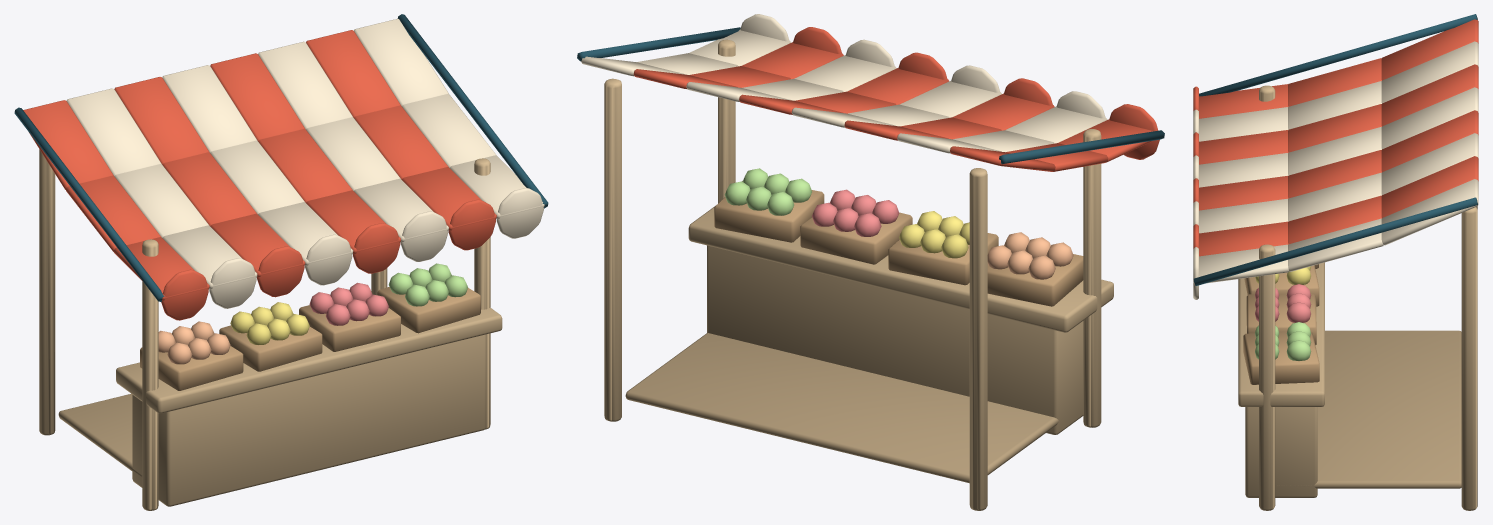
The model's file is market_stall_red.glb.
The picture shows the model from 3 angles, left to right: view 1: azimuth 30°, elevation 25°; view 2: azimuth 150°, elevation 25°; view 3: azimuth 270°, elevation 25°; orthographic projection. The views are drawn at different scales.
Parts seen in each view (by area): view 1: Market_Stall_Red_Frame, Market_Stall_Red_Awning_B, Market_Stall_Red_Awning_A, Market_Stall_Red_Crates, Market_Stall_Red_Fruit, Market_Stall_Red_AwningRod; view 2: Market_Stall_Red_Frame, Market_Stall_Red_Awning_A, Market_Stall_Red_Awning_B, Market_Stall_Red_Crates, Market_Stall_Red_Fruit, Market_Stall_Red_AwningRod; view 3: Market_Stall_Red_Frame, Market_Stall_Red_Awning_A, Market_Stall_Red_Awning_B, Market_Stall_Red_AwningRod, Market_Stall_Red_Crates, Market_Stall_Red_Fruit.
Boxes of the visible parts, x1,y1,x2,y2 form: Market_Stall_Red_Frame: [39, 149, 502, 510]; Market_Stall_Red_Awning_B: [66, 18, 544, 308]; Market_Stall_Red_Awning_A: [23, 30, 496, 320]; Market_Stall_Red_Crates: [140, 287, 480, 390]; Market_Stall_Red_Fruit: [158, 263, 467, 364]; Market_Stall_Red_AwningRod: [14, 14, 548, 301]; Market_Stall_Red_Frame: [604, 39, 1113, 510]; Market_Stall_Red_Awning_A: [633, 27, 1159, 171]; Market_Stall_Red_Awning_B: [581, 14, 1107, 153]; Market_Stall_Red_Crates: [714, 181, 1083, 306]; Market_Stall_Red_Fruit: [724, 168, 1073, 279]; Market_Stall_Red_AwningRod: [577, 27, 1164, 164]; Market_Stall_Red_Frame: [1238, 85, 1477, 510]; Market_Stall_Red_Awning_A: [1193, 19, 1478, 256]; Market_Stall_Red_Awning_B: [1193, 41, 1478, 299]; Market_Stall_Red_AwningRod: [1193, 14, 1477, 285]; Market_Stall_Red_Crates: [1243, 264, 1319, 384]; Market_Stall_Red_Fruit: [1255, 266, 1311, 360].
Size of the model in its own units: 3.05 by 2.47 by 1.97.
